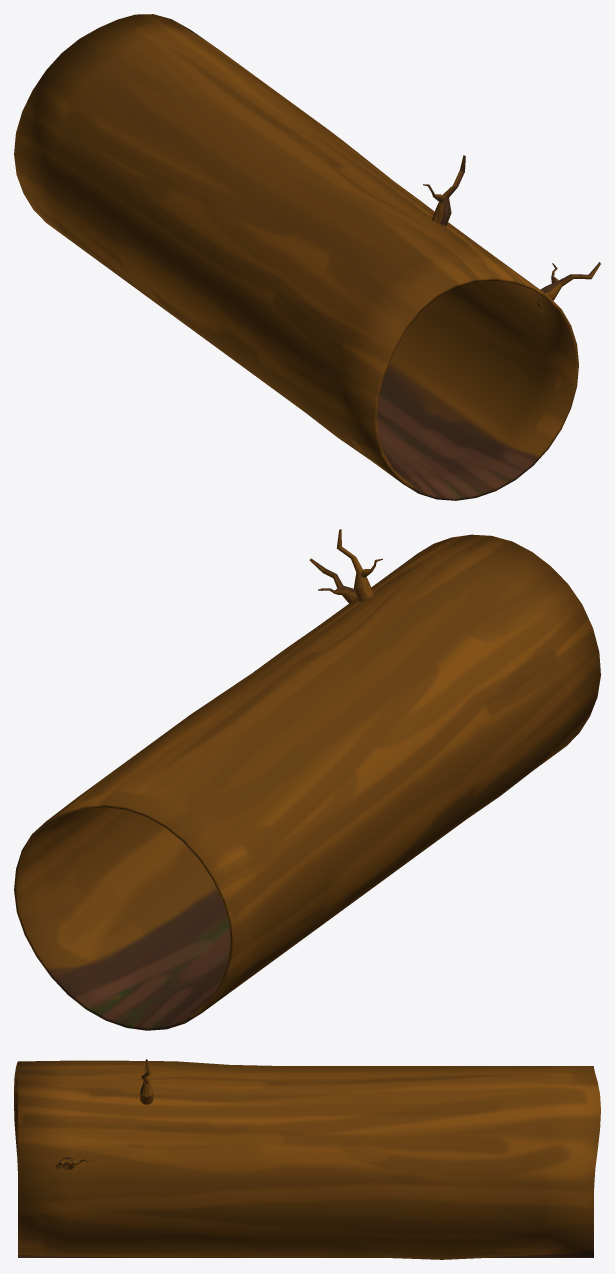
Rendered from log.fbx.
The picture shows the model from 3 angles, top to bottom: view 1: azimuth 30°, elevation 25°; view 2: azimuth 150°, elevation 25°; view 3: azimuth 270°, elevation 25°; orthographic projection. The views are drawn at different scales.
Parts seen in each view (by area): view 1: Cylinder, Cylinder.001; view 2: Cylinder, Cylinder.001; view 3: Cylinder, Cylinder.001.
Boxes of the visible parts, x1,y1,x2,y2 form: Cylinder: (14, 14, 578, 500); Cylinder.001: (423, 155, 465, 226); Cylinder: (14, 534, 600, 1030); Cylinder.001: (336, 529, 382, 601); Cylinder: (14, 1060, 600, 1259); Cylinder.001: (140, 1059, 153, 1104).
Size of the model in its own units: 471 by 465 by 1146.
4 materials, 4 textured.
